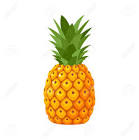Pineapple: (46, 14, 96, 125)
